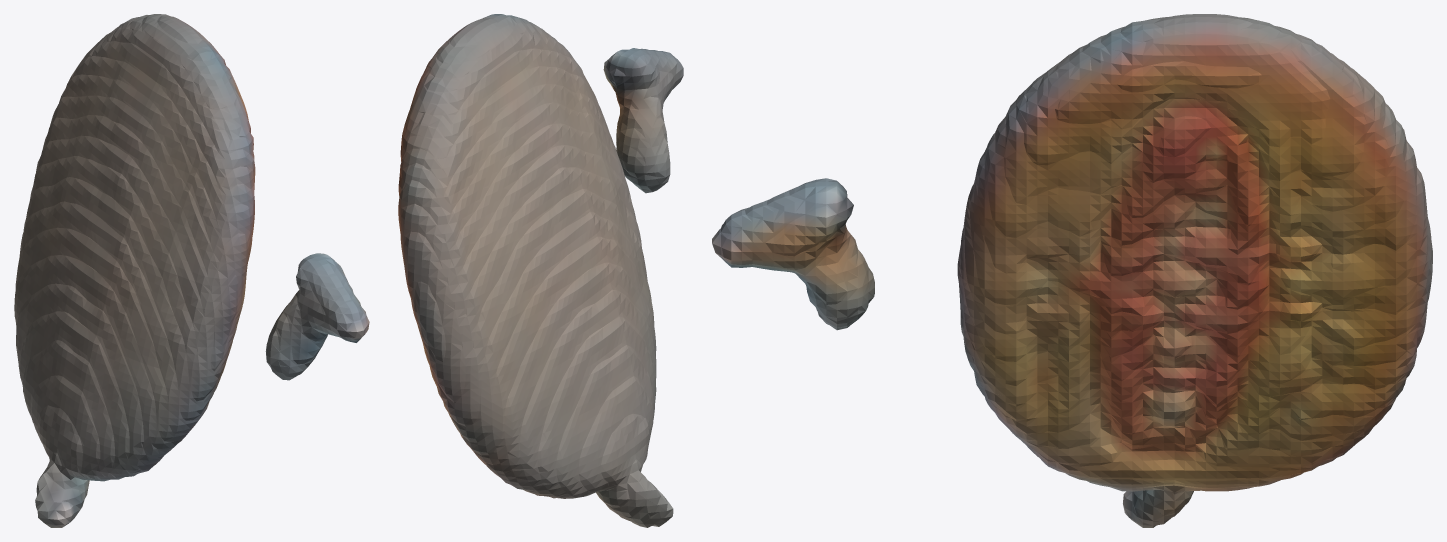
3 renders of one model, left to right at view 1: azimuth 30°, elevation 25°; view 2: azimuth 150°, elevation 25°; view 3: azimuth 270°, elevation 25°, orthographic. The views are drawn at different scales.
Parts seen in each view (by area): view 1: world; view 2: world; view 3: world.
Part boxes in pixels (left/top/right/bottom): world: left=14, top=14, right=369, bottom=527; world: left=398, top=14, right=683, bottom=527; world: left=712, top=14, right=1432, bottom=527.
Size of the model in its own units: 0.186 by 0.4272 by 0.4663.
